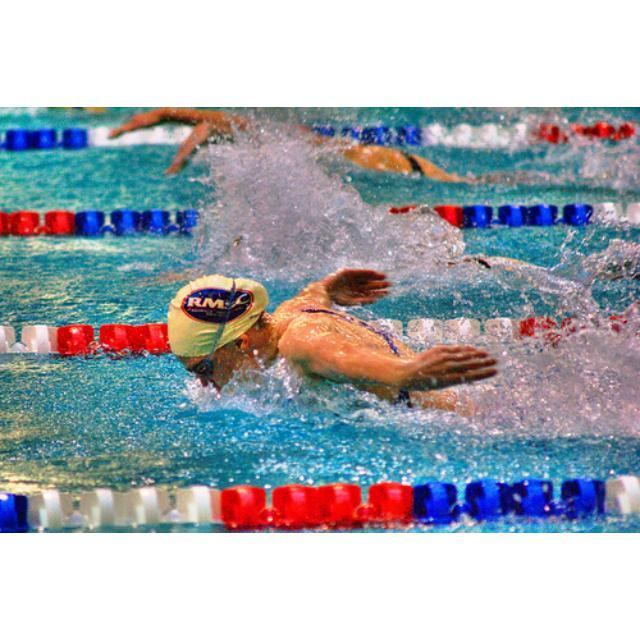human: (162, 265, 497, 435)
